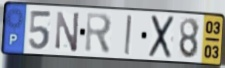5: (27, 9, 53, 51)
8: (178, 17, 201, 60)
I: (123, 14, 133, 57)
N: (55, 10, 81, 54)
R: (84, 11, 114, 56)
X: (147, 14, 177, 60)
